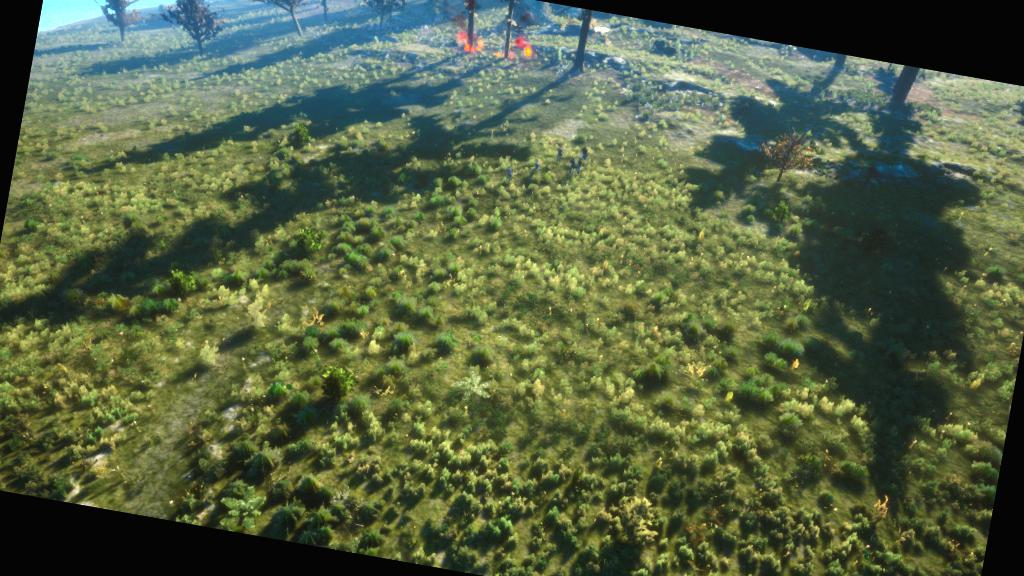Fire: (492, 29, 537, 65), (450, 26, 490, 56)
human: (530, 156, 547, 178), (500, 162, 516, 184), (554, 143, 568, 166), (574, 157, 588, 179), (564, 156, 578, 175), (580, 142, 592, 161)
